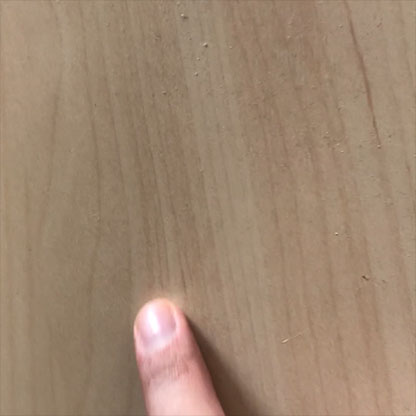fingertip: (121, 292, 194, 362)
